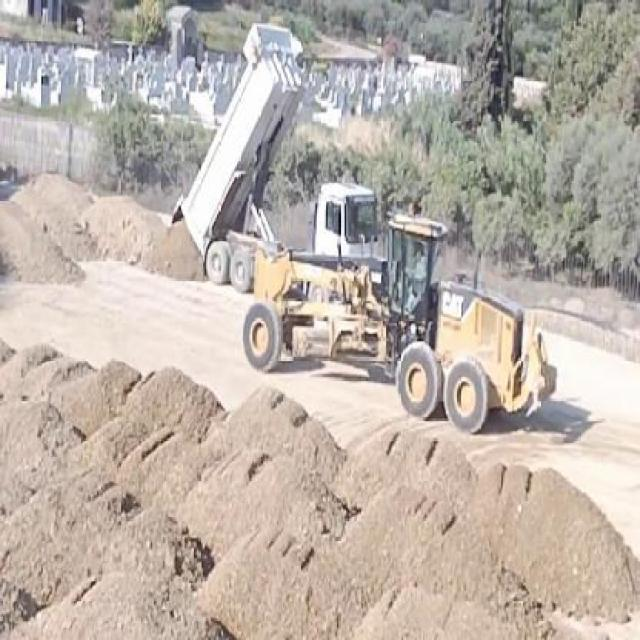buldozerpayloadergrader: (241, 214, 559, 431)
dump_truck: (175, 21, 367, 268)
